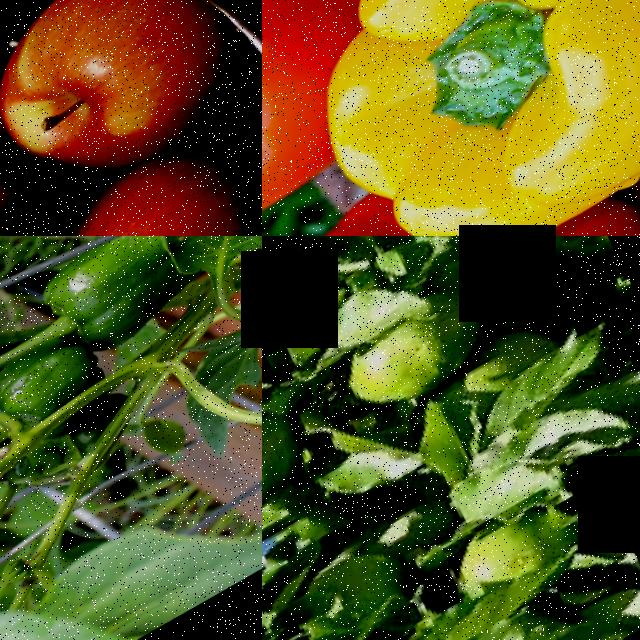apple: (0, 0, 261, 236), (2, 123, 262, 236)
avocado: (412, 475, 595, 640), (335, 283, 502, 437), (415, 236, 537, 362), (449, 320, 567, 436), (262, 396, 319, 552)
bell pepper: (288, 0, 640, 236), (262, 168, 640, 236), (25, 236, 197, 368), (0, 339, 92, 443)
